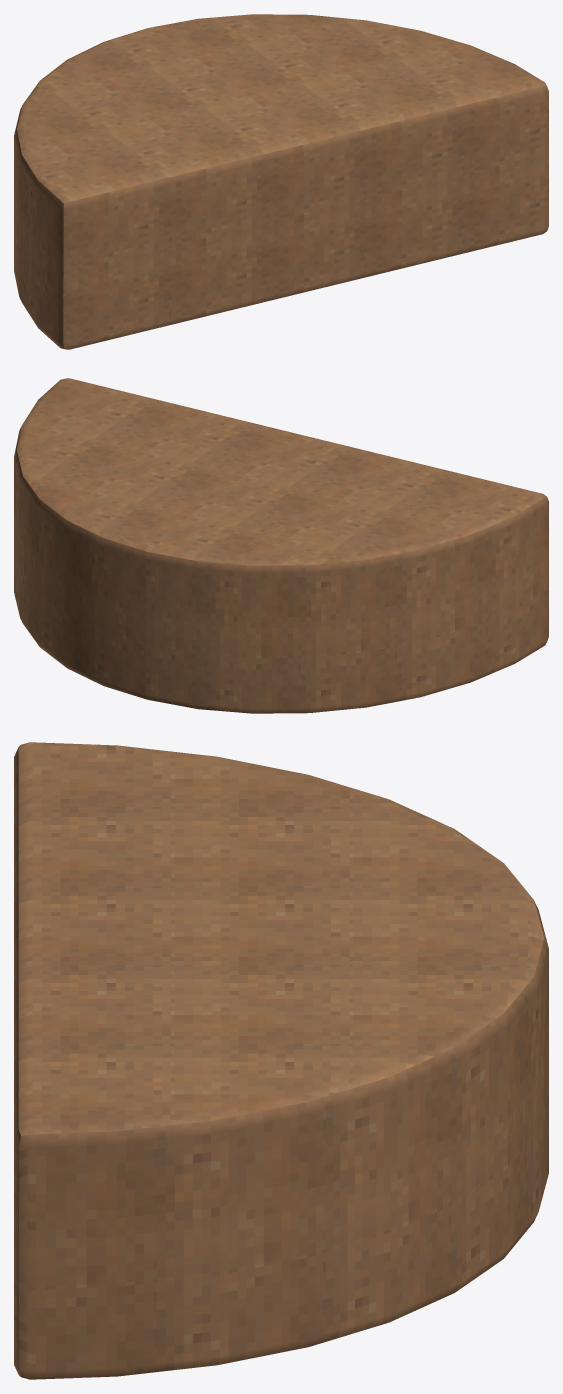
File: ground2.fbx
The picture shows the model from 3 angles, top to bottom: view 1: azimuth 30°, elevation 25°; view 2: azimuth 150°, elevation 25°; view 3: azimuth 270°, elevation 25°; orthographic projection. The views are drawn at different scales.
Parts seen in each view (by area): view 1: pCylinder1; view 2: pCylinder1; view 3: pCylinder1.
Part boxes in pixels (x1,y1,x2,y2): pCylinder1: (14, 14, 548, 349); pCylinder1: (14, 378, 548, 713); pCylinder1: (14, 742, 548, 1379).
Bounding box in the file's own units: 58.04 × 17.35 × 33.12.
